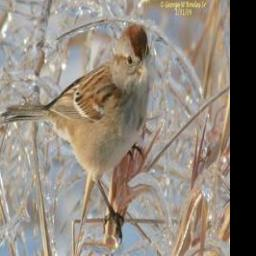Sparrow: (0, 19, 156, 244)
